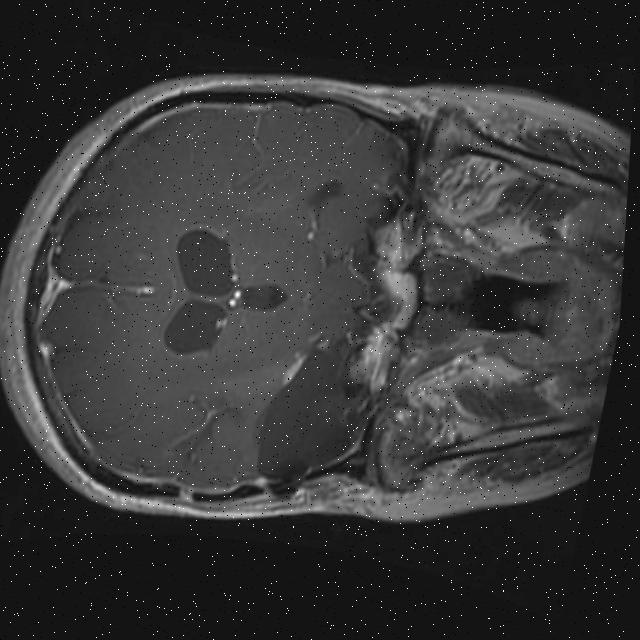Glioma: (246, 334, 382, 491)
Pituitary: (368, 263, 424, 332)
